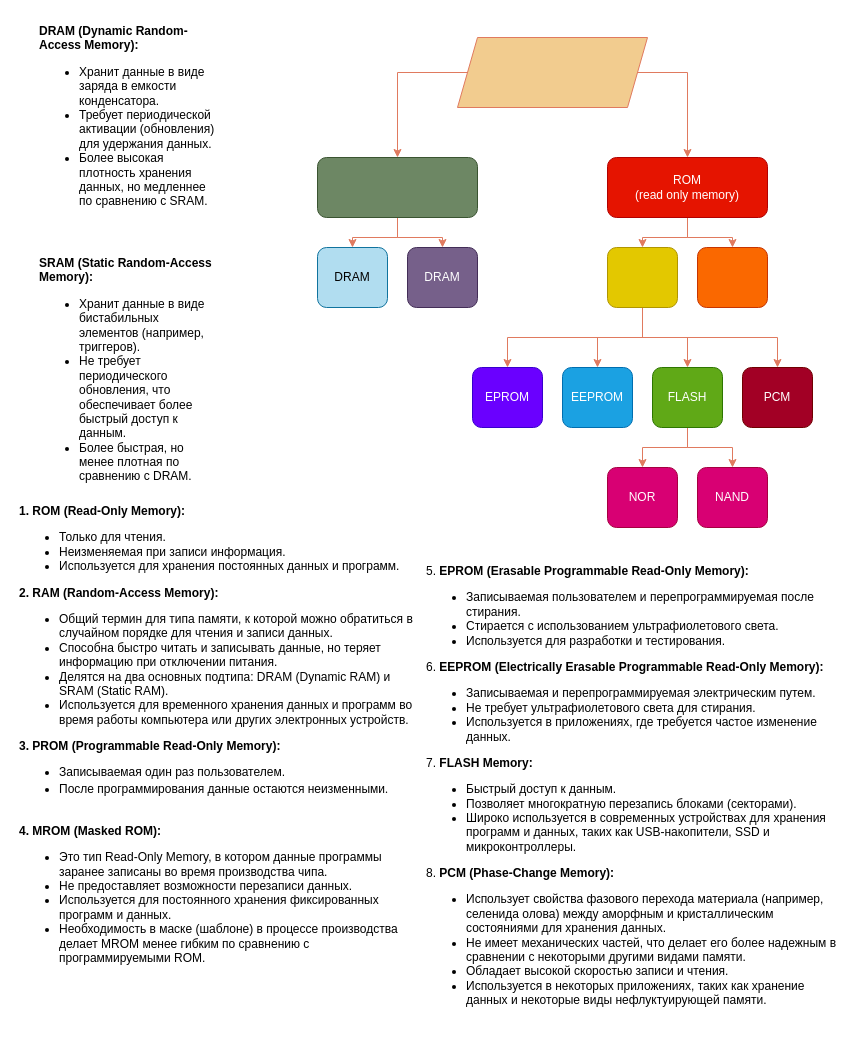
Some shapes in this 861 by 1037 pixel diagram are drawn without their labels. The centre of each missing label's shape, as x and y in pixels:
"MROM" goes at [732,277].
"PROM" goes at [642,277].
"RAM (random access memory)" goes at [397,187].
"Semiconductor Memory Technologies" goes at [552,72].
